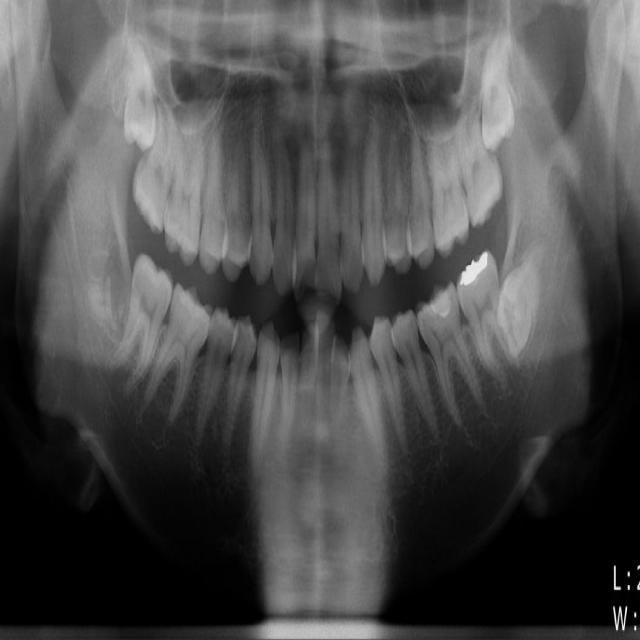3M ESPE Implant: (120, 18, 168, 154)
52: (439, 245, 511, 315), (411, 278, 464, 349)
73: (614, 572, 632, 588)
BioHorizons Implant: (444, 44, 509, 229)
BioLife Implant: (480, 18, 518, 155)
Biomet 3i Implant: (488, 235, 546, 361)
Blue Sky Bio Implant: (447, 247, 524, 393)
Caries: (127, 64, 187, 239)
Implant: (103, 252, 181, 398)
